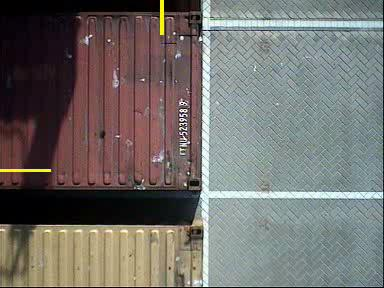groundmarker_2: (202, 1, 231, 52), (201, 169, 230, 220)
